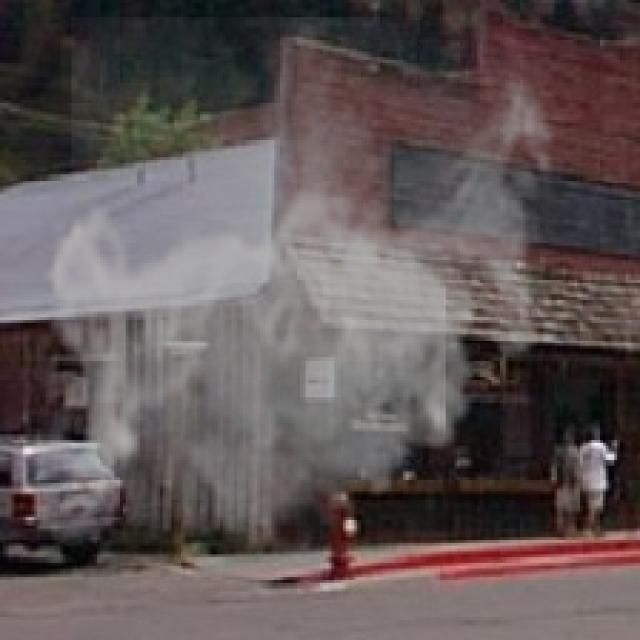Smoke: (37, 17, 572, 572)
